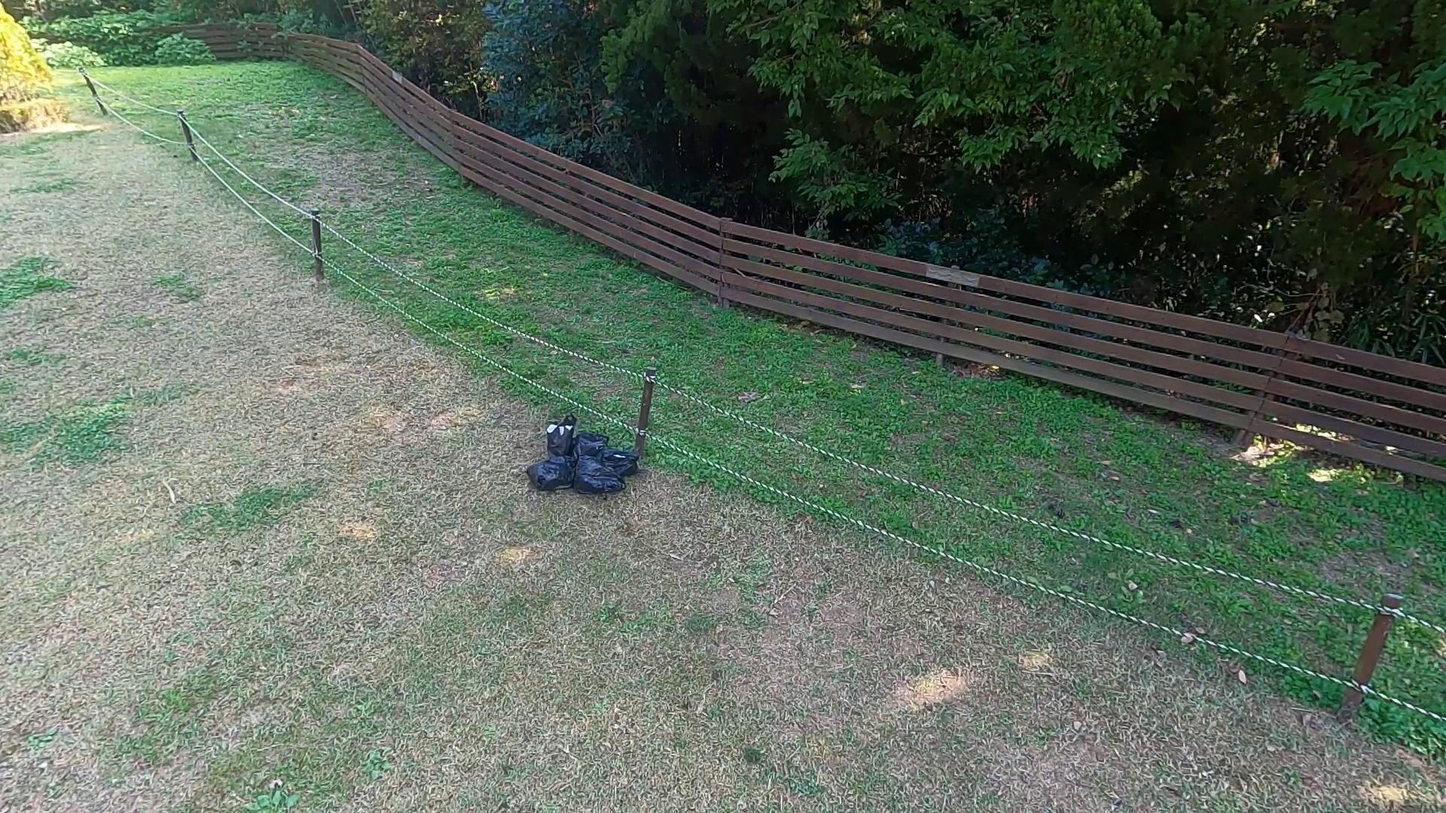trash: (574, 456, 627, 500), (526, 453, 577, 488), (570, 425, 607, 472), (594, 446, 644, 478), (544, 413, 574, 457)
